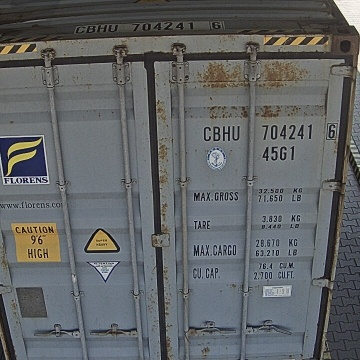serial_id: (204, 123, 337, 141)
